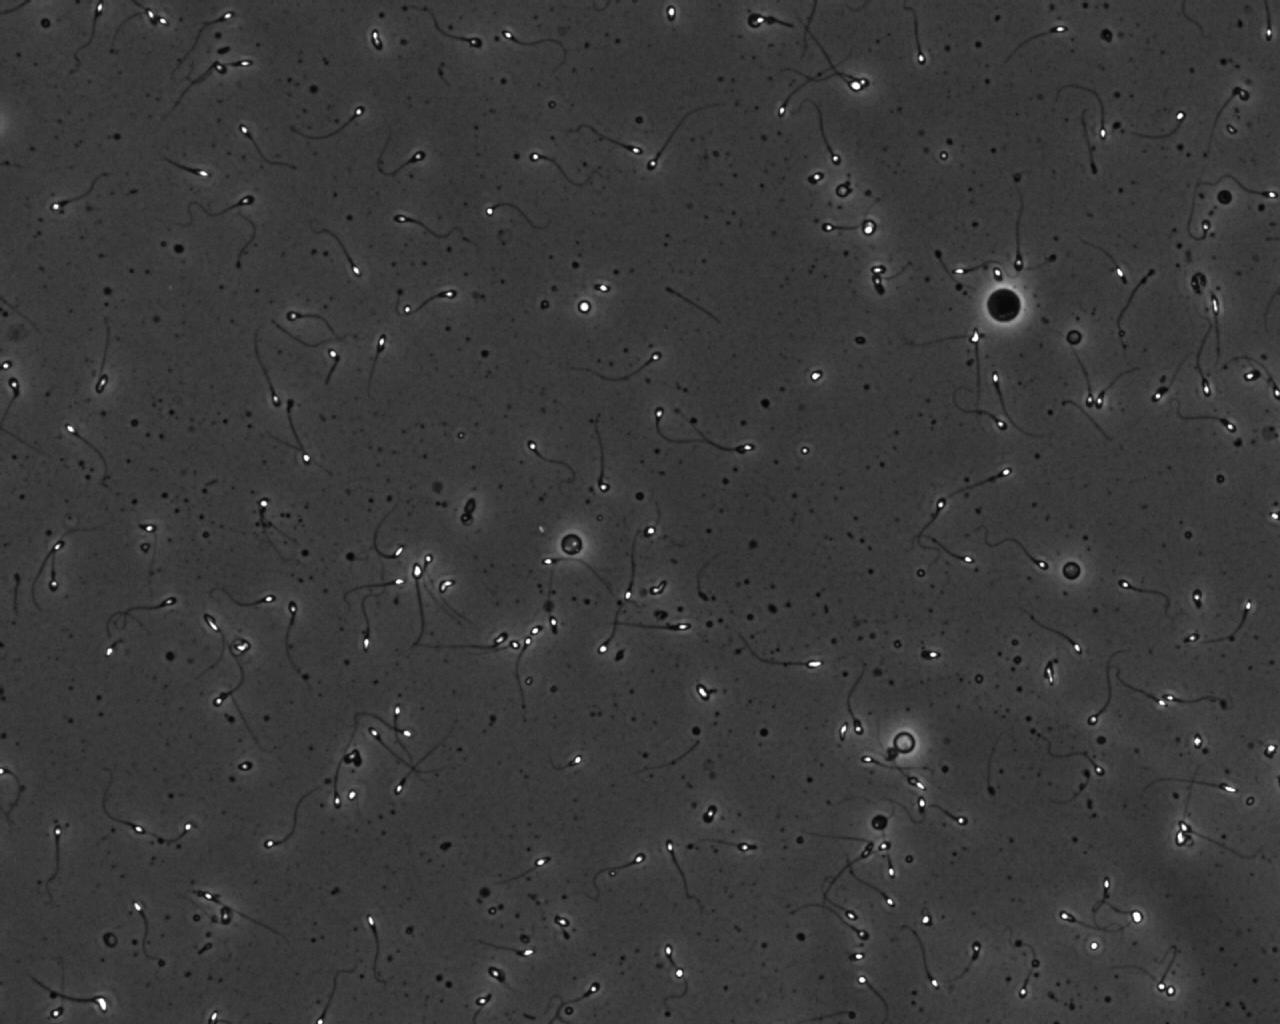cell: (977, 279, 1030, 332), (557, 528, 588, 559), (889, 727, 920, 758), (866, 809, 893, 835), (1058, 557, 1084, 585), (1062, 325, 1087, 350), (877, 743, 902, 766)
